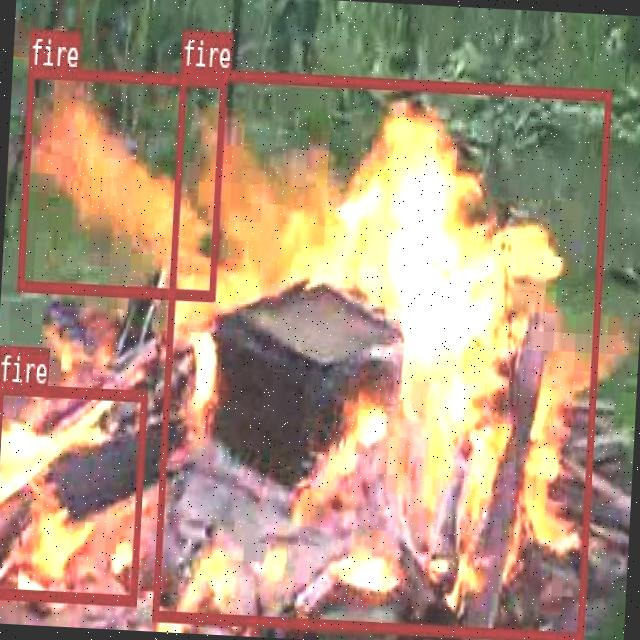fire: (152, 65, 610, 640), (17, 67, 225, 300), (0, 381, 145, 604)
